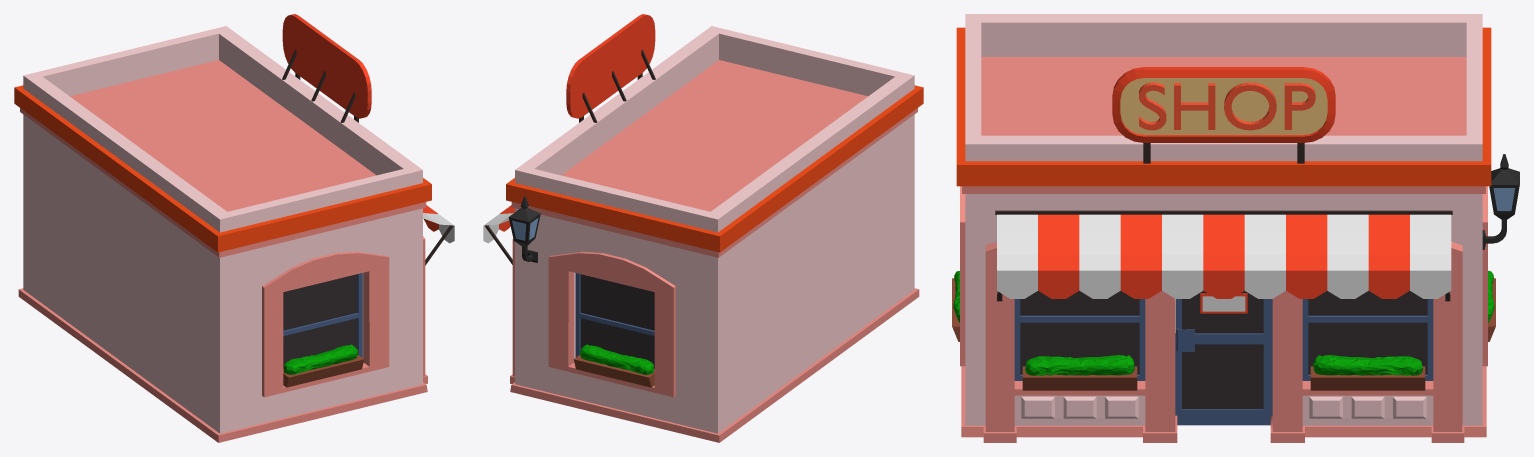
File: SM_Building_Shop.fbx
3 renders of one model, left to right at view 1: azimuth 30°, elevation 25°; view 2: azimuth 150°, elevation 25°; view 3: azimuth 270°, elevation 25°, orthographic. The views are drawn at different scales.
Parts seen in each view (by area): view 1: ShopBuilding; view 2: ShopBuilding; view 3: ShopBuilding.
Part boxes in pixels (x1=…): ShopBuilding: x1=14, y1=14, x2=454, y2=442; ShopBuilding: x1=483, y1=14, x2=923, y2=442; ShopBuilding: x1=952, y1=14, x2=1519, y2=442.
Bounding box in the file's own units: 248 × 264 × 369.
1 material, 1 textured.
